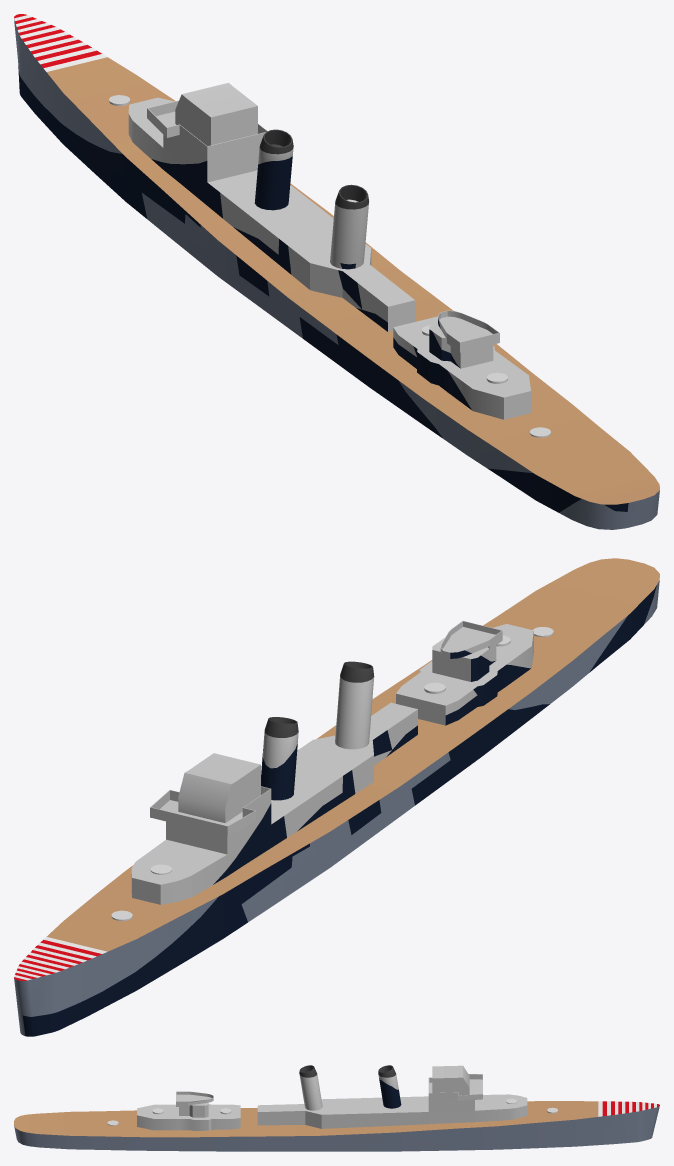
Rendered from USN_DD_Fletcher-Dev.fbx.
3 views of the same model, one above another, from view 1: azimuth 30°, elevation 25°; view 2: azimuth 150°, elevation 25°; view 3: azimuth 270°, elevation 25° (orthographic). The views are drawn at different scales.
Visible parts, largest first — view 1: Ship Hull; view 2: Ship Hull; view 3: Ship Hull.
Boxes of the visible parts, <box> form: Ship Hull: <box>14,14,659,529</box>; Ship Hull: <box>14,558,659,1036</box>; Ship Hull: <box>14,1065,659,1151</box>.
Size of the model in its own units: 12.03 by 13.64 by 115.
